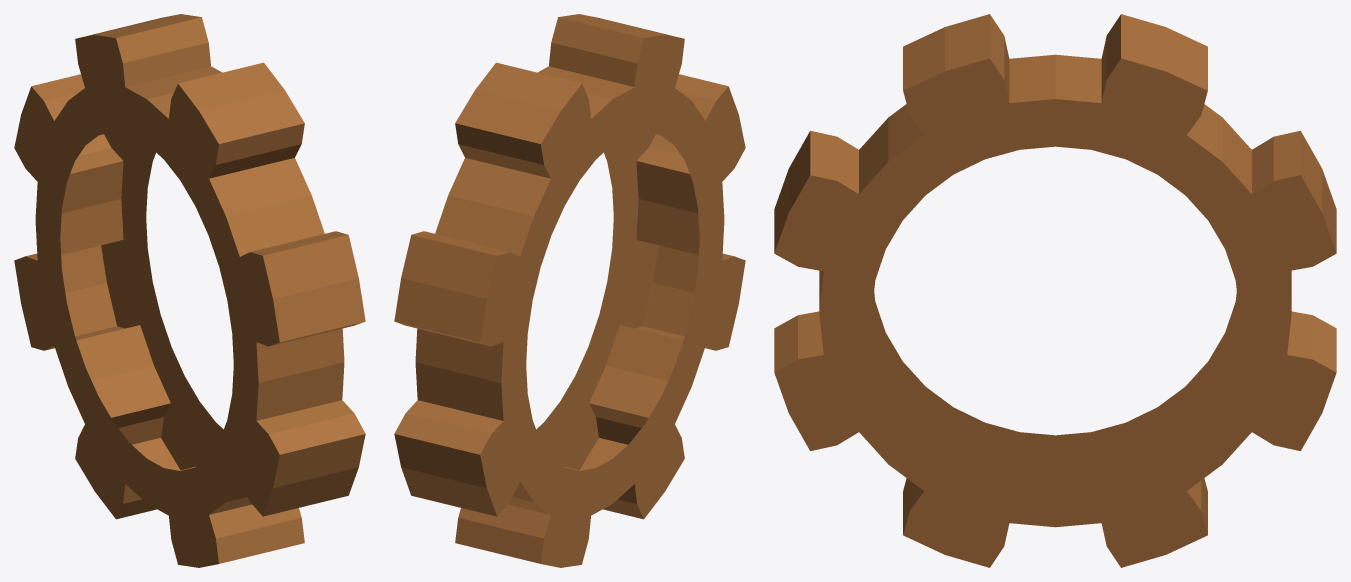
File: icon_gear.glb
3 renders of one model, left to right at view 1: azimuth 30°, elevation 25°; view 2: azimuth 150°, elevation 25°; view 3: azimuth 270°, elevation 25°, orthographic. The views are drawn at different scales.
Visible parts, largest first — view 1: Gear; view 2: Gear; view 3: Gear.
Boxes of the visible parts, bbox=[...] form: Gear: bbox=[14, 14, 365, 567]; Gear: bbox=[394, 14, 745, 567]; Gear: bbox=[774, 14, 1336, 567].
Size of the model in its own units: 0.0888 by 0.4758 by 0.4758.
